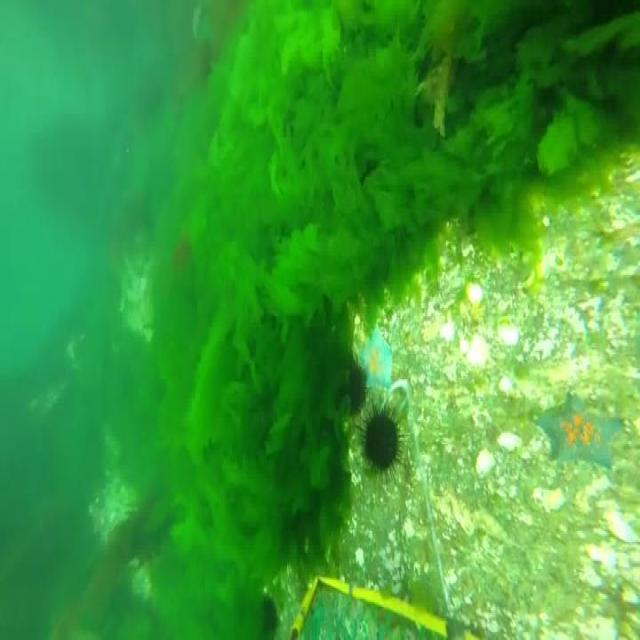echinus: (358, 403, 404, 493), (344, 362, 365, 412), (257, 594, 275, 640)
scallop: (605, 506, 639, 542), (498, 319, 520, 346), (476, 452, 494, 479), (497, 433, 521, 450), (466, 280, 482, 305)
starfish: (531, 397, 623, 472), (362, 332, 392, 393)
